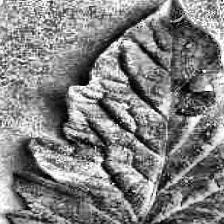disease: (9, 0, 224, 224)
